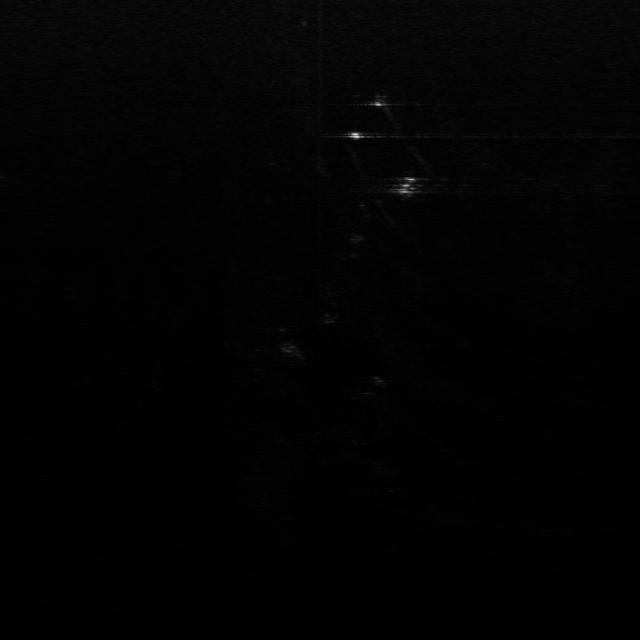rov: (393, 173, 423, 198)
